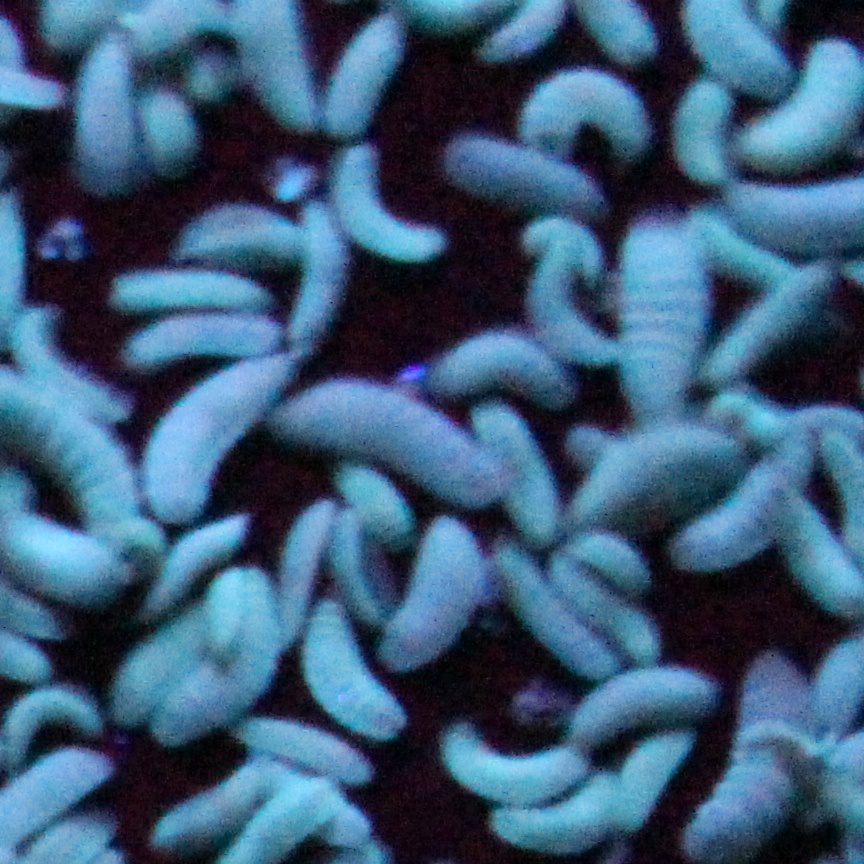larve: (141, 374, 268, 494), (721, 648, 791, 862), (624, 212, 695, 414), (347, 148, 454, 268), (515, 68, 651, 145), (445, 731, 564, 804), (121, 312, 288, 364), (245, 2, 314, 127), (281, 389, 424, 449), (592, 665, 711, 734), (799, 31, 864, 152), (77, 48, 131, 191), (417, 524, 471, 667), (742, 185, 859, 248), (278, 498, 325, 648), (439, 341, 559, 398), (461, 154, 572, 215), (297, 207, 341, 351), (335, 15, 388, 130), (311, 652, 391, 724), (107, 272, 269, 307), (337, 532, 395, 629), (137, 89, 197, 174), (497, 414, 548, 514), (679, 1, 752, 70), (781, 547, 858, 612), (614, 420, 695, 475), (157, 784, 235, 841), (814, 635, 861, 727), (718, 479, 795, 532), (728, 302, 795, 361), (685, 84, 725, 182), (529, 252, 578, 331), (518, 594, 568, 671), (117, 644, 169, 718), (584, 4, 661, 52), (621, 738, 659, 834), (347, 464, 408, 521), (249, 729, 354, 762), (515, 805, 609, 841), (178, 672, 239, 727), (578, 527, 638, 578), (594, 597, 648, 644), (215, 570, 238, 645)
